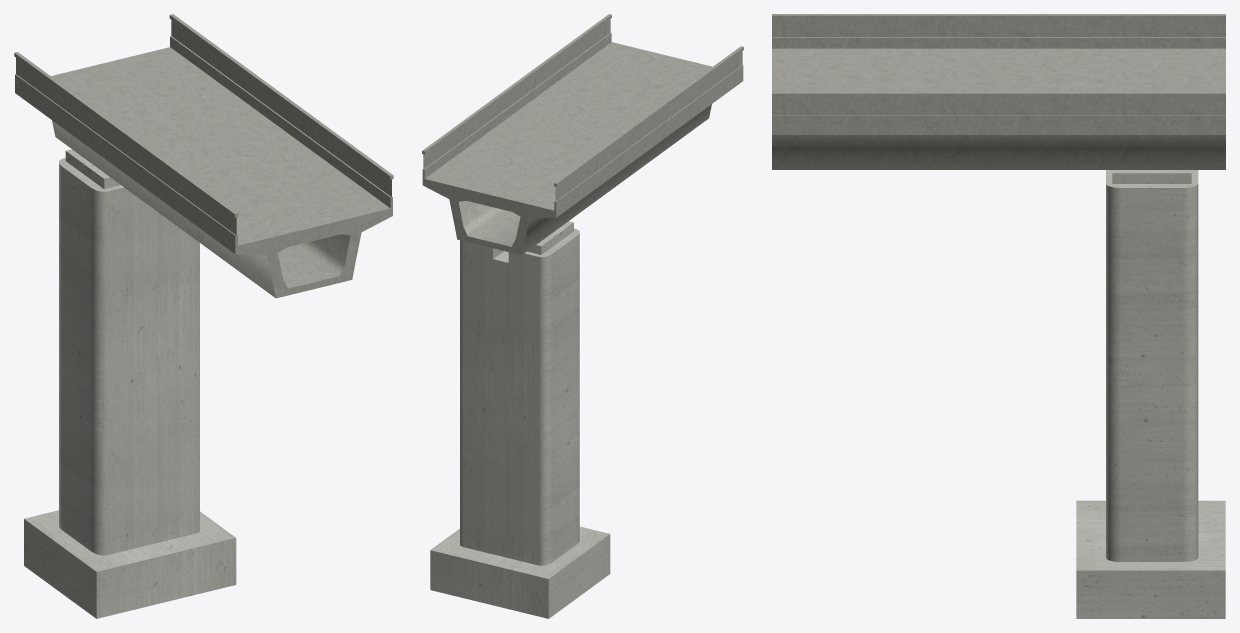
File: 高架桥（短）单线版本.fbx
3 renders of one model, left to right at view 1: azimuth 30°, elevation 25°; view 2: azimuth 150°, elevation 25°; view 3: azimuth 270°, elevation 25°, orthographic. The views are drawn at different scales.
Visible parts, largest first — view 1: QiaoDun005, QiaoMian005; view 2: QiaoDun005, QiaoMian005; view 3: QiaoMian005, QiaoDun005.
Part boxes in pixels (box(x1,y1,x2,y2)): QiaoDun005: box(24, 149, 236, 618); QiaoMian005: box(14, 14, 393, 298); QiaoDun005: box(430, 221, 610, 618); QiaoMian005: box(422, 14, 743, 255); QiaoMian005: box(772, 14, 1225, 169); QiaoDun005: box(1076, 170, 1225, 618).
Size of the model in its own units: 13.32 by 41.25 by 32.
